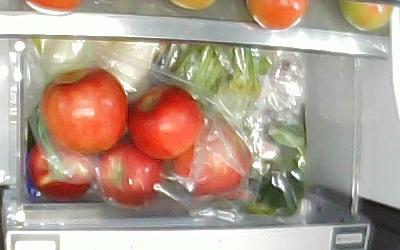apple: (41, 67, 128, 155), (127, 83, 203, 160)
apple_vinyl: (171, 117, 251, 195), (98, 137, 166, 206), (29, 143, 95, 203)
